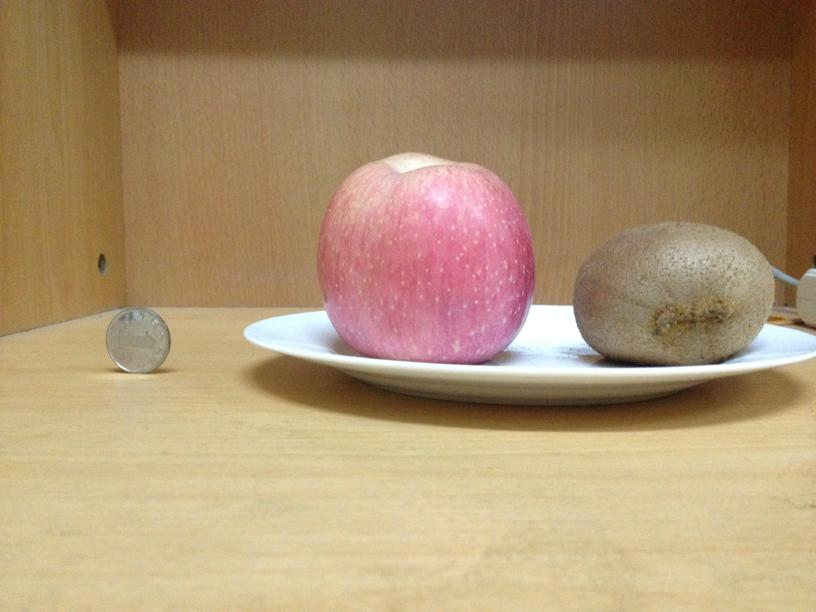apple: (316, 148, 534, 363)
coin: (105, 305, 171, 374)
qiwi: (577, 217, 776, 364)
